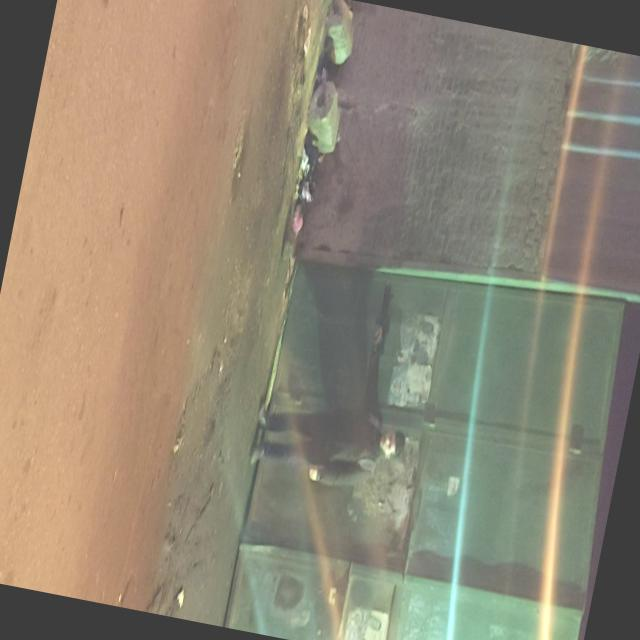long weapon: (351, 269, 409, 376)
